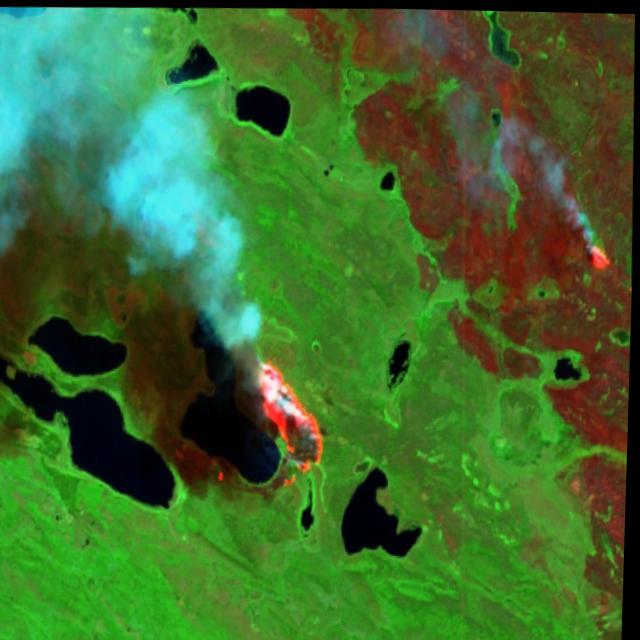fire: (251, 352, 332, 490), (583, 228, 621, 280)
